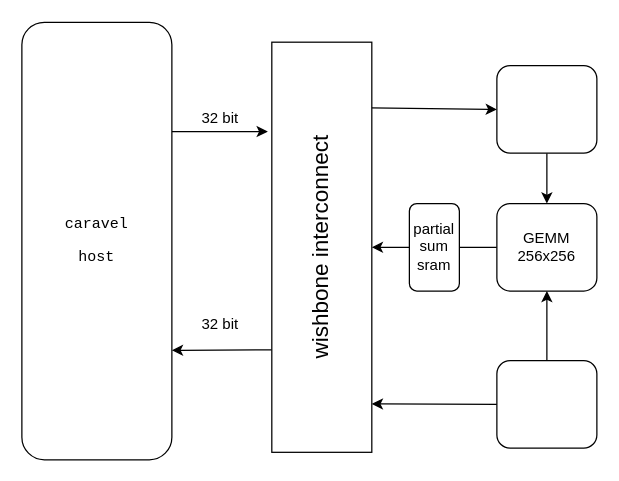
The diagram is 619 pixels wide and 481 high, and some of its shapes have lost their labels. Here are the shapes that lost their labels. From the top down, the centre of each, then its label:
(546,108): i/p ram
(546,403): weight sram
